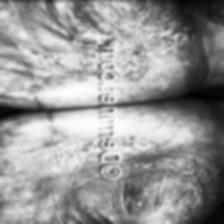Non-Cancerous Skin Condition: (124, 158, 200, 212), (118, 23, 184, 78), (56, 138, 100, 174), (118, 132, 152, 152)
